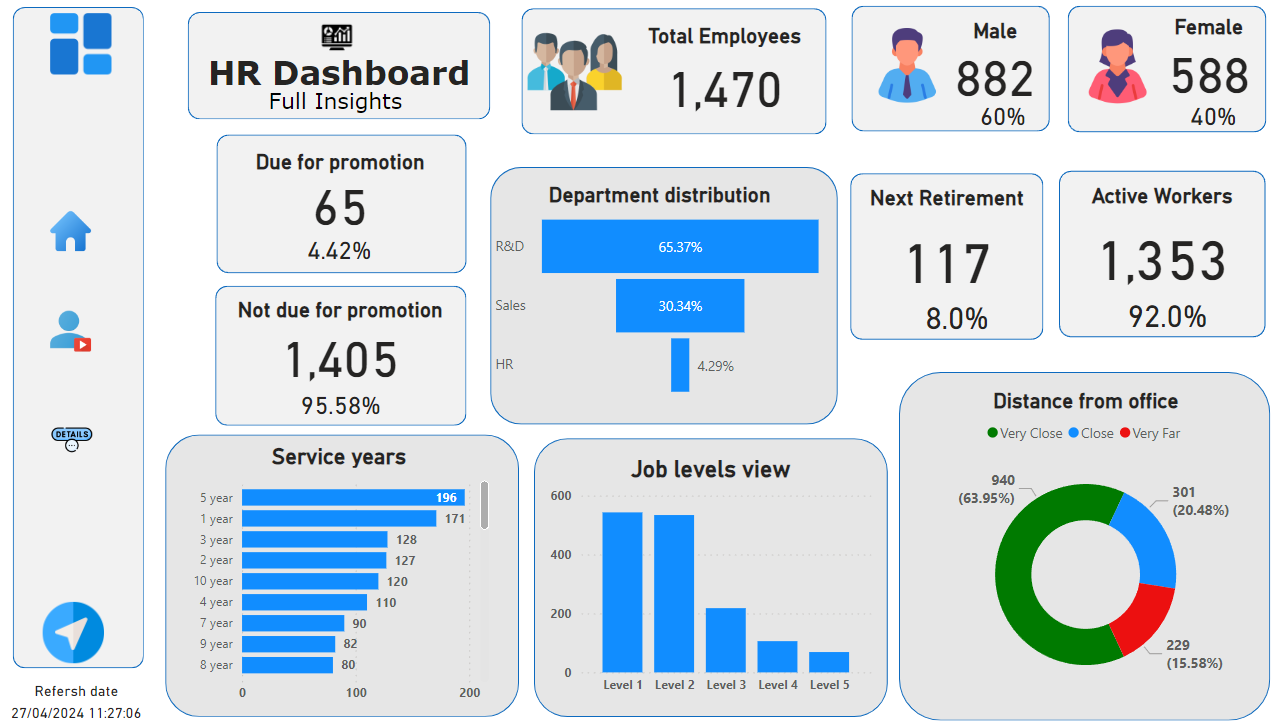

The page's visual inventory and layout, read from the dashboard file:
{"tool":"powerbi","page":{"name":"Page 1","canvas":[1280,720],"ordinal":0},"visuals":[{"type":"shape","box":[23.2,14.7,128.4,646.9],"z":0},{"type":"shape","box":[490.8,171.4,339.9,251.9],"z":1000},{"type":"shape","box":[842.3,177,189,162.9],"z":2000},{"type":"shape","box":[223,139.6,244.6,135.7],"z":3000},{"type":"shape","box":[890.7,372,363.2,341.2],"z":4000},{"type":"shape","box":[533.6,436.8,346.1,272.7],"z":5000},{"type":"shape","box":[172.4,432.9,346.1,276.4],"z":6000},{"type":"shape","box":[221.6,287.4,245.8,137],"z":7000},{"type":"card","title":"Due for promotion","fields":{"Values":["Sheet1.Due for Promotion"]},"box":[236.5,154.3,215.2,79.5],"z":8000},{"type":"card","title":"Not due for promotion","fields":{"Values":["Sheet1.Not due for Promotion"]},"box":[236.5,298.6,215.2,89.3],"z":9000},{"type":"barChart","title":"Service years ","fields":{"Category":["Sheet1.Service Year"],"Y":["CountNonNull(Sheet1.Service Year)"]},"box":[190.8,441.4,303.3,262.9],"z":10000},{"type":"card","fields":{"Values":["Sheet1.Measure"]},"box":[294,384.2,101.5,39.1],"z":11000},{"type":"columnChart","title":"Job levels view","fields":{"Category":["Sheet1.Job Level"],"Y":["CountNonNull(Sheet1.Job Level)"]},"box":[544.6,452.7,324.1,243.3],"z":12000},{"type":"donutChart","title":"Distance from office","fields":{"Y":["CountNonNull(Sheet1.Distance from office)"],"Series":["Sheet1.Distance from office"],"Category":["Sheet1.Distance from office"]},"box":[909.1,387.9,328.9,311.8],"z":13000},{"type":"card","title":"Refersh date","fields":{"Values":["Min(Refresh date.Refresh date)"]},"box":[0,675,171.2,45.2],"z":14000},{"type":"card","fields":{"Values":["HR_data.Measure_due"]},"box":[290.3,233.8,106.4,36.7],"z":15000},{"type":"shape","box":[521.4,16.1,298.4,123.5],"z":16000},{"type":"card","title":"Total Employees","fields":{"Values":["HR_data.Employee_no"]},"box":[625.4,30.8,189.5,96.6],"z":17000},{"type":"shape","box":[843.7,14,194,123],"z":18000},{"type":"card","title":"Male","fields":{"Values":["HR_data.Male_pop"]},"box":[933.5,25.9,102.7,84.4],"z":19000},{"type":"shape","box":[1055.5,13.4,194.2,123.8],"z":20000},{"type":"card","title":"Female","fields":{"Values":["HR_data.female_pop"]},"box":[1137.6,22.5,112.1,86],"z":21000},{"type":"image","box":[850.4,19.8,97,105],"z":22000},{"type":"card","fields":{"Values":["HR_data.%male_pop"]},"box":[958.5,106.6,66.5,30],"z":23000},{"type":"card","fields":{"Values":["HR_data.%female_pop"]},"box":[1163.7,105.9,67.8,30],"z":24000},{"type":"image","box":[1055.5,19.9,97.8,105.6],"z":25000},{"type":"card","title":"Next Retirement","fields":{"Values":["HR_data.Next_retire"]},"box":[842.3,190,189,114.7],"z":26000},{"type":"card","fields":{"Values":["HR_data.%retire"]},"box":[907.5,294.3,79.5,45.6],"z":27000},{"type":"shape","box":[1047.1,174.3,202,162.9],"z":28000},{"type":"card","title":"Active Workers","fields":{"Values":["HR_data.active_employee"]},"box":[1058.8,187.4,177.3,114.7],"z":29000},{"type":"card","fields":{"Values":["HR_data.%active"]},"box":[1108.3,291.6,89.9,45.6],"z":30000},{"type":"funnel","title":"Department distribution","fields":{"Category":["HR_data.Department"],"Y":["CountNonNull(HR_data.Department)"]},"box":[490.8,186.1,331.4,218.9],"z":31000},{"type":"shape","box":[194.9,19.8,295.9,105.2],"z":32000},{"type":"textbox","box":[194.9,54,295.9,57.5],"z":33000},{"type":"textbox","box":[235.3,88.3,207.9,36.7],"z":34000},{"type":"image","box":[55,15.9,69.7,69.7],"z":35000},{"type":"image","box":[521.4,19.8,103.9,116.2],"z":36000},{"type":"image","box":[47.7,591.9,69.7,69.7],"z":37000},{"type":"image","box":[56.3,413.3,50.1,50.1],"z":38000},{"type":"image","box":[55,209.1,50,50],"z":39000},{"type":"image","box":[55,306.9,50.1,50.1],"z":40000},{"type":"image","box":[320.9,24.7,40.4,40.4],"z":41000}]}

Visuals, with their boxes on the page's 1280x720 design canvas (x1, y1, x2, y2). These are canvas units, not pixel positions in the 1283x722 screenshot, which may show the page scaled, cropped or inside an application window:
shape: BBox(23, 15, 152, 662)
shape: BBox(491, 171, 831, 423)
shape: BBox(842, 177, 1031, 340)
shape: BBox(223, 140, 468, 275)
shape: BBox(891, 372, 1254, 713)
shape: BBox(534, 437, 880, 710)
shape: BBox(172, 433, 518, 709)
shape: BBox(222, 287, 467, 424)
"Due for promotion" card: BBox(236, 154, 452, 234)
"Not due for promotion" card: BBox(236, 299, 452, 388)
"Service years " barChart: BBox(191, 441, 494, 704)
card - Sheet1.Measure: BBox(294, 384, 396, 423)
"Job levels view" columnChart: BBox(545, 453, 869, 696)
"Distance from office" donutChart: BBox(909, 388, 1238, 700)
"Refersh date" card: BBox(0, 675, 171, 720)
card - HR_data.Measure_due: BBox(290, 234, 397, 270)
shape: BBox(521, 16, 820, 140)
"Total Employees" card: BBox(625, 31, 815, 127)
shape: BBox(844, 14, 1038, 137)
"Male" card: BBox(934, 26, 1036, 110)
shape: BBox(1056, 13, 1250, 137)
"Female" card: BBox(1138, 22, 1250, 108)
image: BBox(850, 20, 947, 125)
card - HR_data.%male_pop: BBox(958, 107, 1025, 137)
card - HR_data.%female_pop: BBox(1164, 106, 1232, 136)
image: BBox(1056, 20, 1153, 126)
"Next Retirement" card: BBox(842, 190, 1031, 305)
card - HR_data.%retire: BBox(908, 294, 987, 340)
shape: BBox(1047, 174, 1249, 337)
"Active Workers" card: BBox(1059, 187, 1236, 302)
card - HR_data.%active: BBox(1108, 292, 1198, 337)
"Department distribution" funnel: BBox(491, 186, 822, 405)
shape: BBox(195, 20, 491, 125)
textbox: BBox(195, 54, 491, 112)
textbox: BBox(235, 88, 443, 125)
image: BBox(55, 16, 125, 86)
image: BBox(521, 20, 625, 136)
image: BBox(48, 592, 117, 662)
image: BBox(56, 413, 106, 463)
image: BBox(55, 209, 105, 259)
image: BBox(55, 307, 105, 357)
image: BBox(321, 25, 361, 65)
